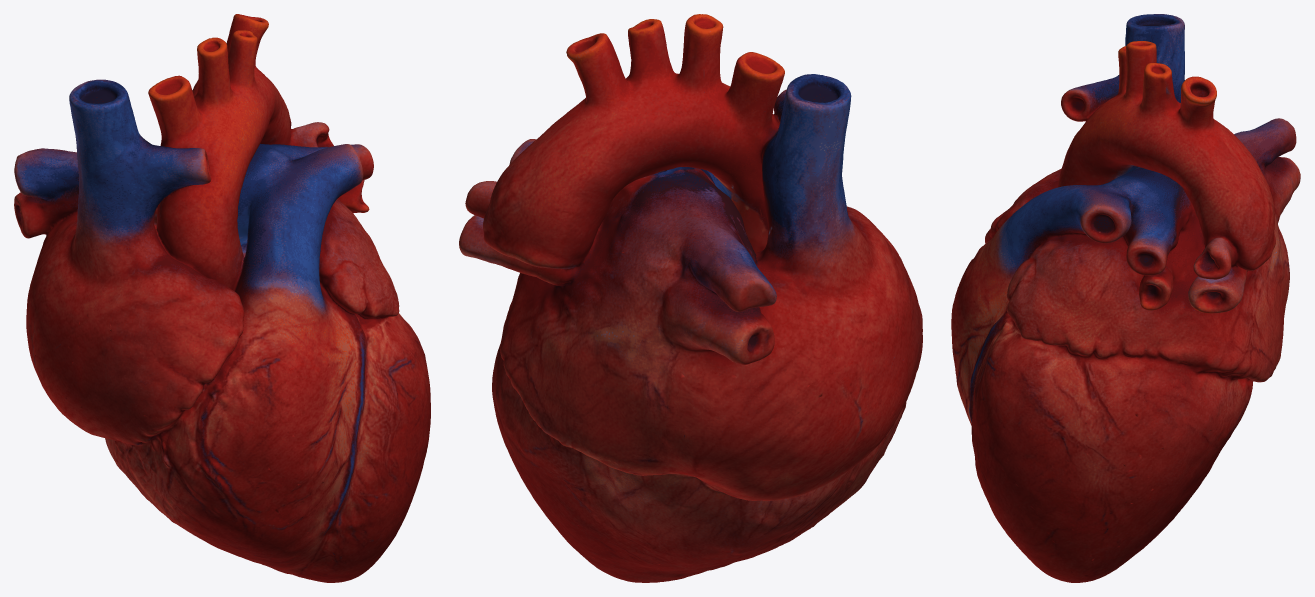
File: Corazon.glb
3 views of the same model, side by side, from view 1: azimuth 30°, elevation 25°; view 2: azimuth 150°, elevation 25°; view 3: azimuth 270°, elevation 25° (orthographic). The views are drawn at different scales.
Visible parts, largest first — view 1: world; view 2: world; view 3: world.
Part boxes in pixels (x1,y1,x2,y2): world: (14, 14, 430, 582); world: (459, 14, 922, 582); world: (951, 14, 1300, 582).
Bounding box in the file's own units: 0.6658 × 1 × 0.637.
1 material, 1 textured.
